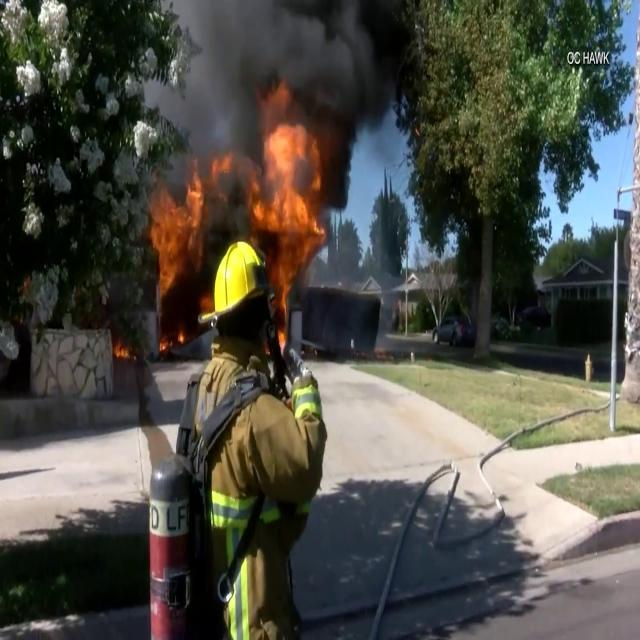Fire: (148, 116, 326, 334), (144, 172, 204, 337)
Smoke: (168, 1, 408, 174)
